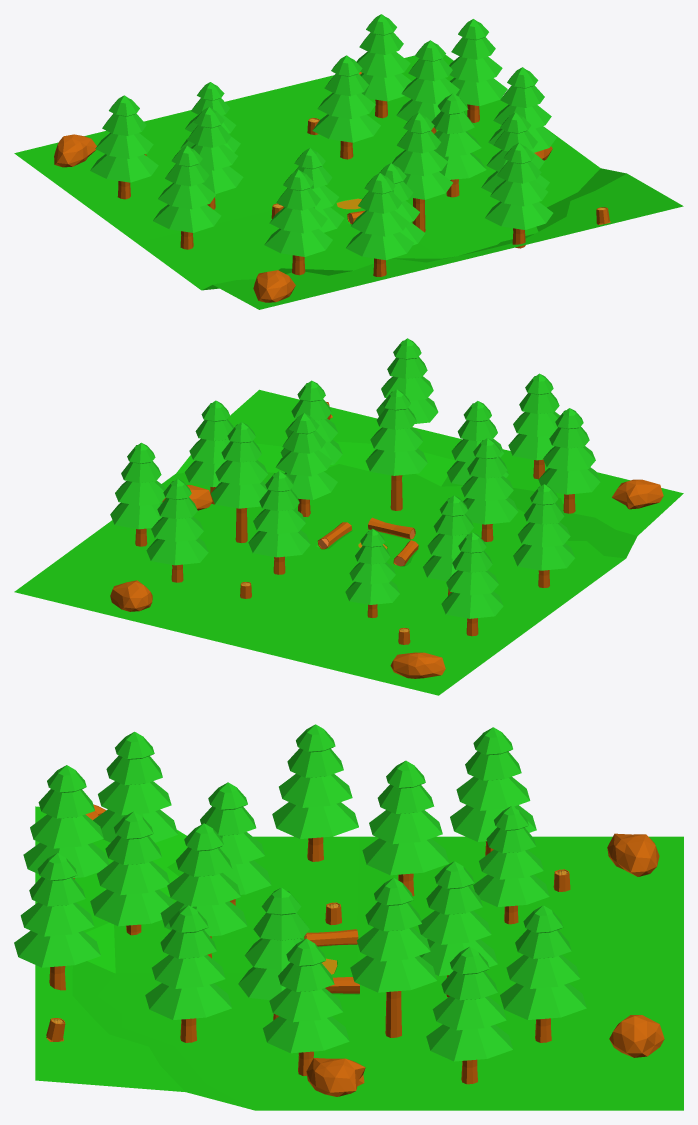
File: Bosque.obj
The picture shows the model from 3 angles, top to bottom: view 1: azimuth 30°, elevation 25°; view 2: azimuth 150°, elevation 25°; view 3: azimuth 270°, elevation 25°; orthographic projection. The views are drawn at different scales.
Visible parts, largest first — view 1: Plane, Arbol.014, Arbol.015, Arbol.002, Arbol.013, Arbol.012, Arbol.010, Arbol.023, Arbol.001, Arbol.007, Arbol, Arbol.003 (+8 smaller); view 2: Plane, Arbol.001, Arbol.003, Arbol.007, Arbol.002, Arbol.013, Arbol.012, Arbol.014, Arbol.005, Arbol.023, Arbol, Arbol.015 (+10 smaller); view 3: Plane, Arbol.003, Arbol.023, Arbol.008, Arbol.012, Arbol.007, Arbol.010, Arbol.011, Arbol.004, Arbol.009, Arbol.015, Arbol.013 (+10 smaller).
Part boxes in pixels (x1,y1,x2,y2): Plane: (14, 55, 683, 309); Arbol.014: (264, 169, 332, 275); Arbol.015: (346, 173, 414, 276); Arbol.002: (312, 55, 380, 159); Arbol.013: (90, 95, 158, 199); Arbol.012: (153, 145, 221, 249); Arbol.010: (485, 143, 553, 248); Arbol.023: (449, 19, 507, 122); Arbol.001: (392, 112, 452, 232); Arbol.007: (356, 14, 411, 118); Arbol: (431, 93, 486, 197); Arbol.003: (396, 40, 459, 133); Plane: (14, 389, 683, 695); Arbol.001: (365, 389, 427, 510); Arbol.003: (211, 422, 267, 542); Arbol.007: (146, 478, 208, 582); Arbol.002: (248, 471, 310, 574); Arbol.013: (441, 532, 503, 636); Arbol.012: (513, 484, 574, 587); Arbol.014: (538, 408, 600, 513); Arbol.005: (461, 438, 518, 541); Arbol.023: (110, 442, 165, 546); Arbol: (275, 413, 337, 516); Arbol.015: (508, 373, 560, 479); Plane: (35, 806, 683, 1110); Arbol.003: (350, 878, 436, 1037); Arbol.023: (426, 946, 512, 1084); Arbol.008: (145, 905, 231, 1042); Arbol.012: (272, 724, 358, 861); Arbol.007: (500, 905, 586, 1042); Arbol.010: (14, 853, 100, 990); Arbol.011: (263, 938, 349, 1076); Arbol.004: (362, 760, 449, 896); Arbol.009: (90, 811, 173, 935); Arbol.015: (23, 765, 109, 878); Arbol.013: (450, 727, 536, 855).
Bounding box in the file's own units: 25.68 × 7.21 × 26.53.
